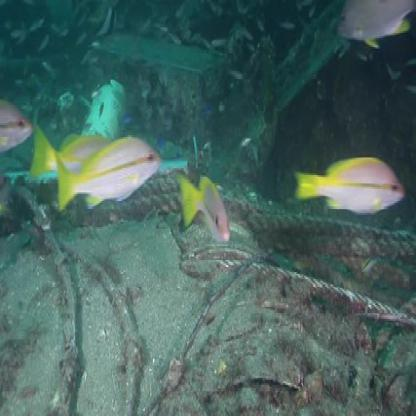Lutjanidae -Snappers-: (52, 131, 163, 211), (293, 147, 410, 221), (175, 162, 231, 247)
